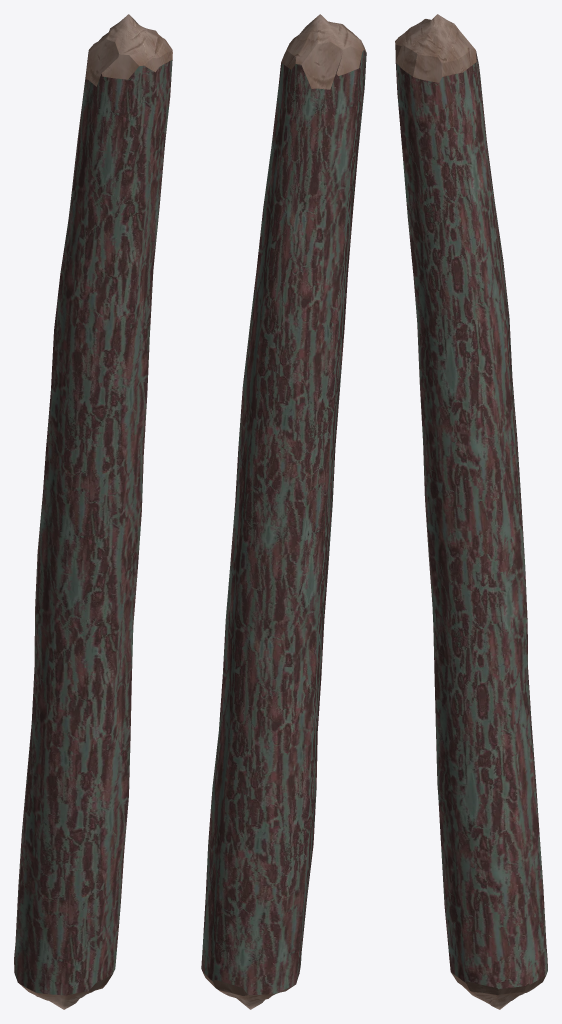
3 views of the same model, side by side, from view 1: azimuth 90°, elevation 25°; view 2: azimuth 150°, elevation 25°; view 3: azimuth 270°, elevation 25° (orthographic). The views are drawn at different scales.
Parts seen in each view (by area): view 1: SM_MapleTree_02_half_top_LOD0; view 2: SM_MapleTree_02_half_top_LOD0; view 3: SM_MapleTree_02_half_top_LOD0.
Part boxes in pixels (bbox=[...]): SM_MapleTree_02_half_top_LOD0: bbox=[14, 14, 172, 1009]; SM_MapleTree_02_half_top_LOD0: bbox=[201, 14, 366, 1009]; SM_MapleTree_02_half_top_LOD0: bbox=[395, 14, 547, 1009].
Bounding box in the file's own units: 0.6512 × 5.04 × 0.7137.
1 material, 1 textured.
